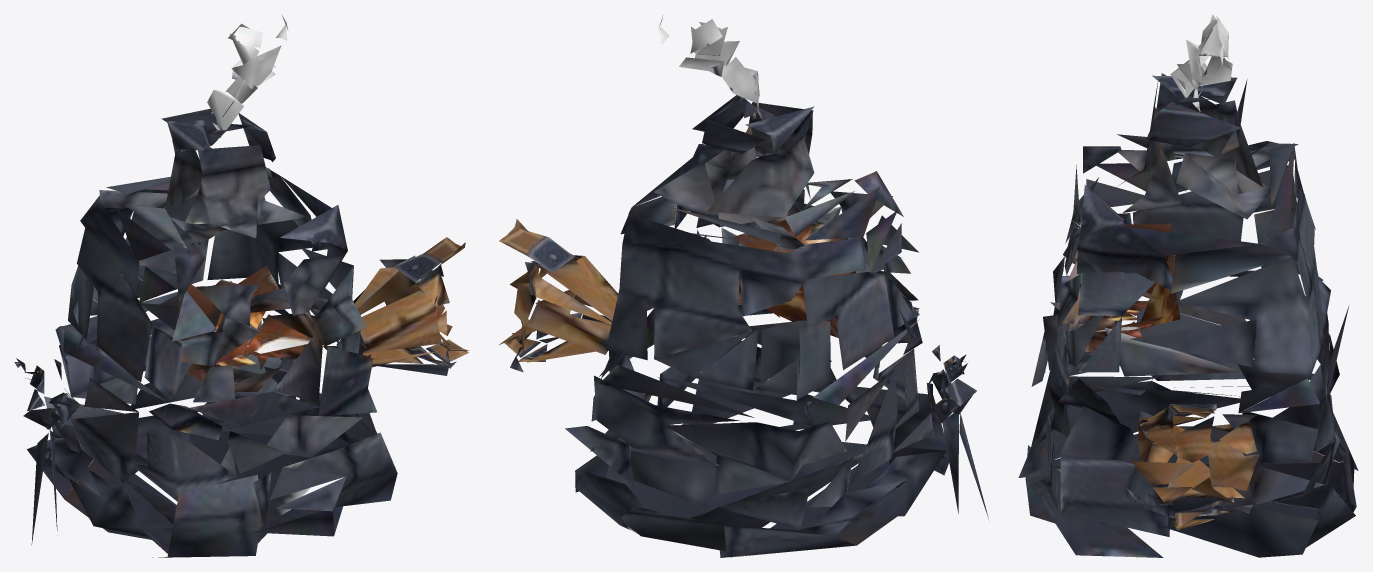
The model's file is at-forge-semis.glb.
3 renders of one model, left to right at view 1: azimuth 30°, elevation 25°; view 2: azimuth 150°, elevation 25°; view 3: azimuth 270°, elevation 25°, orthographic. The views are drawn at different scales.
Visible parts, largest first — view 1: at-forge-semis; view 2: at-forge-semis; view 3: at-forge-semis.
Part boxes in pixels (x1=…): at-forge-semis: x1=14, y1=15, x2=469, y2=557; at-forge-semis: x1=499, y1=15, x2=988, y2=557; at-forge-semis: x1=1018, y1=14, x2=1358, y2=557.
Size of the model in its own units: 0.9361 by 0.9039 by 0.5612.
1 material, 1 textured.
